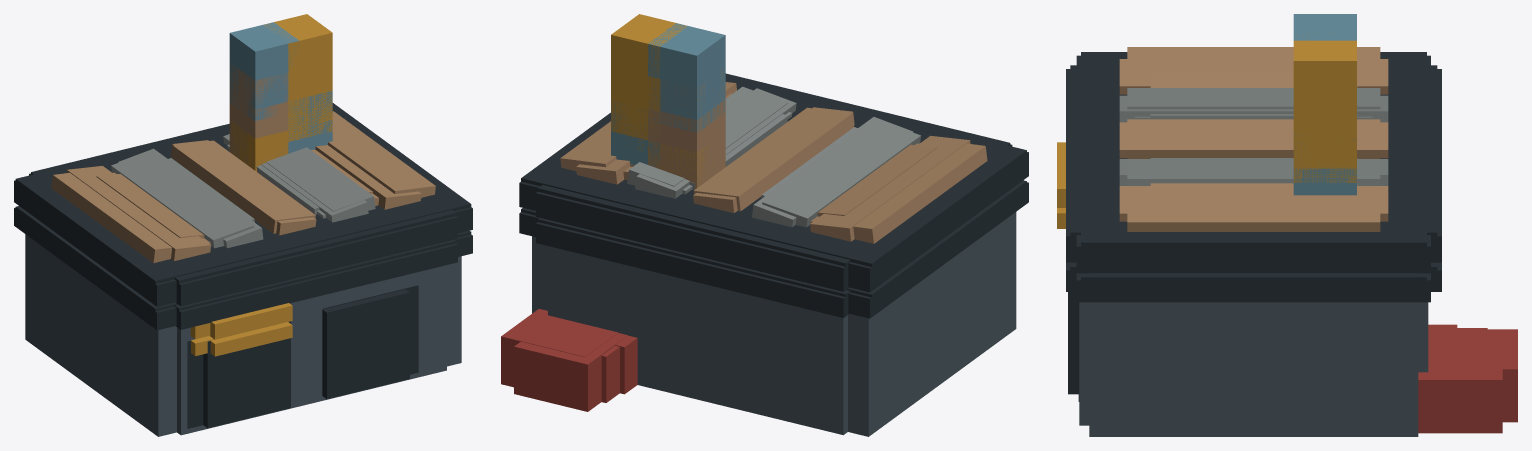
File: industrial.8f66b9edff85.glb
3 renders of one model, left to right at view 1: azimuth 30°, elevation 25°; view 2: azimuth 150°, elevation 25°; view 3: azimuth 270°, elevation 25°, orthographic. The views are drawn at different scales.
Parts seen in each view (by area): view 1: rail-terminal__near, warehouse-cold-store__near, tank-yard__near, warehouse-freight__near, rail-terminal__far, container-yard__near, warehouse-depot__near, tank-yard__far, light-industry__near, grain-silos__near, warehouse-cold-store__far, warehouse-freight__far (+1 smaller); view 2: rail-terminal__near, warehouse-cold-store__near, tank-yard__near, warehouse-freight__near, rail-terminal__far, container-yard__near, tank-yard__far, warehouse-depot__near, warehouse-freight__far, warehouse-sawtooth__near, warehouse-cold-store__far, light-industry__near (+2 smaller); view 3: rail-terminal__near, warehouse-freight__near, rail-terminal__far, tank-yard__near, warehouse-depot__near, container-yard__near, tank-yard__far, warehouse-freight__far, warehouse-cold-store__near, warehouse-sawtooth__near.
Boxes of the visible parts, x1,y1,x2,y2 form: rail-terminal__near: (14, 14, 472, 435); warehouse-cold-store__near: (176, 93, 457, 435); tank-yard__near: (29, 91, 457, 434); warehouse-freight__near: (14, 22, 472, 436); rail-terminal__far: (15, 103, 471, 283); container-yard__near: (96, 149, 372, 238); warehouse-depot__near: (288, 62, 332, 141); tank-yard__far: (31, 123, 455, 303); light-industry__near: (229, 65, 287, 136); grain-silos__near: (229, 120, 288, 171); warehouse-cold-store__far: (174, 239, 455, 326); warehouse-freight__far: (15, 206, 471, 311); rail-terminal__near: (501, 14, 1028, 435); warehouse-cold-store__near: (514, 100, 849, 434); tank-yard__near: (514, 82, 1012, 434); warehouse-freight__near: (501, 23, 1028, 436); rail-terminal__far: (521, 77, 1026, 276); container-yard__near: (615, 97, 937, 393); tank-yard__far: (538, 73, 1010, 266); warehouse-depot__near: (611, 67, 660, 155); warehouse-freight__far: (521, 180, 1026, 297); warehouse-sawtooth__near: (601, 93, 918, 402); warehouse-cold-store__far: (538, 218, 850, 296); light-industry__near: (648, 69, 725, 164); rail-terminal__near: (1076, 34, 1502, 436); warehouse-freight__near: (1076, 14, 1502, 436); rail-terminal__far: (1081, 52, 1426, 273); tank-yard__near: (1057, 59, 1517, 425); warehouse-depot__near: (1293, 96, 1356, 182); container-yard__near: (1150, 71, 1457, 329); tank-yard__far: (1070, 65, 1437, 262); warehouse-freight__far: (1081, 273, 1426, 302); warehouse-cold-store__near: (1057, 208, 1517, 425); warehouse-sawtooth__near: (1135, 116, 1487, 329).
Bounding box in the file's own units: 1.14 × 0.97 × 1.16.
